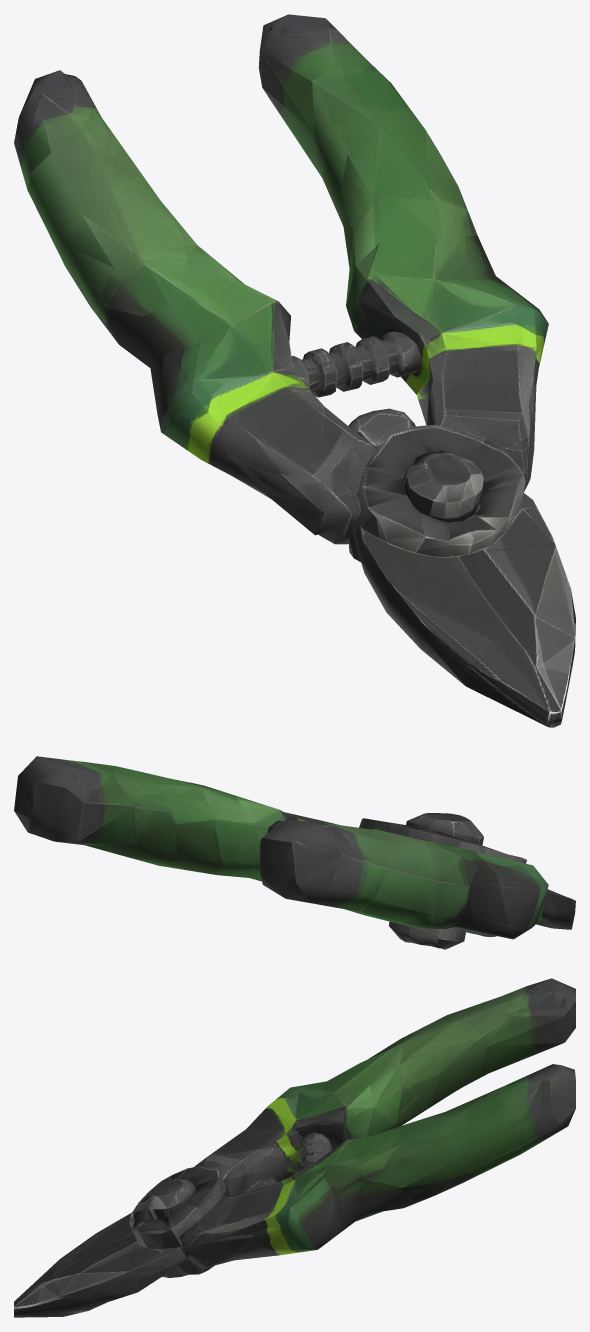
The model's file is trimmers.glb.
3 renders of one model, top to bottom at view 1: azimuth 30°, elevation 25°; view 2: azimuth 150°, elevation 25°; view 3: azimuth 270°, elevation 25°, orthographic. The views are drawn at different scales.
Size of the model in its own units: 0.5547 by 0.5723 by 1.
1 material, 1 textured.
